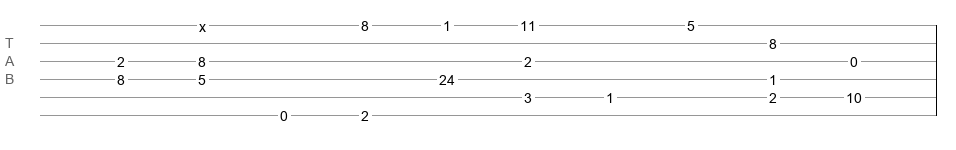0: (280, 108, 288, 118), (850, 54, 858, 64)
1: (443, 18, 451, 28), (606, 90, 614, 100), (769, 72, 777, 82)
10: (846, 90, 862, 100)
11: (520, 18, 536, 28)
2: (117, 54, 125, 64), (361, 108, 369, 118), (524, 54, 532, 64), (769, 90, 777, 100)
24: (439, 72, 455, 82)
3: (524, 90, 532, 100)
5: (198, 72, 206, 82), (687, 18, 695, 28)
8: (117, 72, 125, 82), (198, 54, 206, 64), (361, 18, 369, 28), (769, 36, 777, 46)
x: (199, 19, 206, 27)
